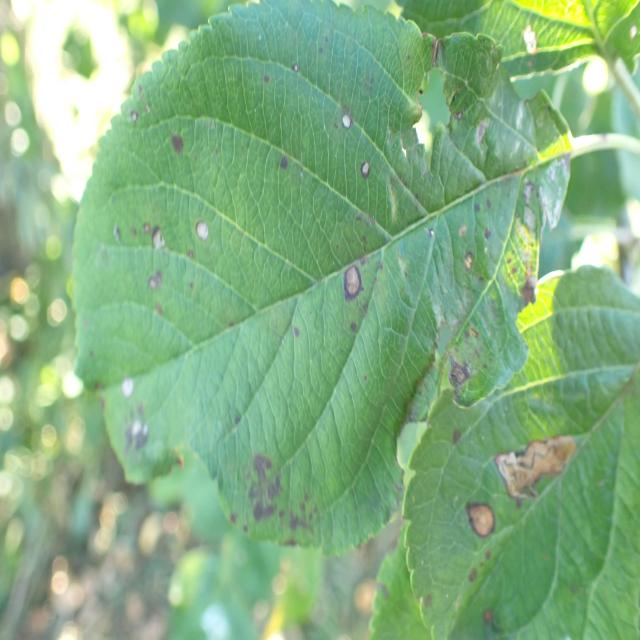frog-eye-leaf-spot: (70, 0, 575, 556), (400, 264, 640, 640)
